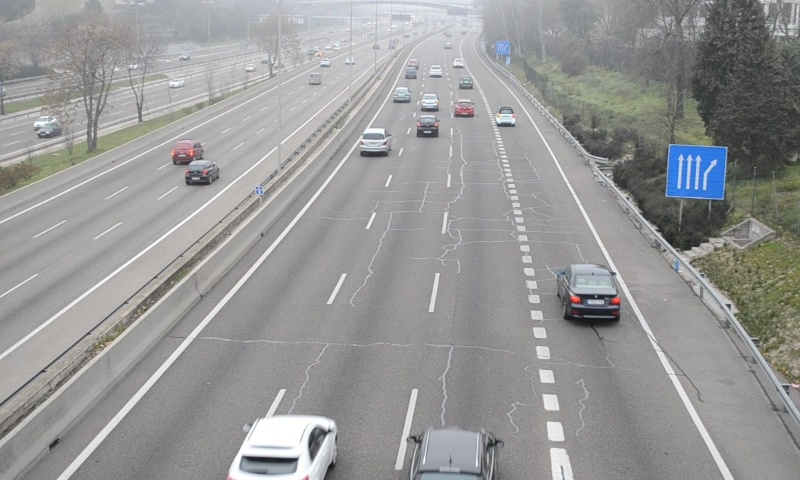car: (226, 416, 338, 480), (408, 426, 498, 480), (560, 263, 624, 320), (358, 127, 392, 154), (417, 114, 440, 137), (494, 105, 516, 128), (454, 98, 475, 118), (391, 86, 412, 103), (420, 93, 438, 112), (458, 75, 473, 90)
